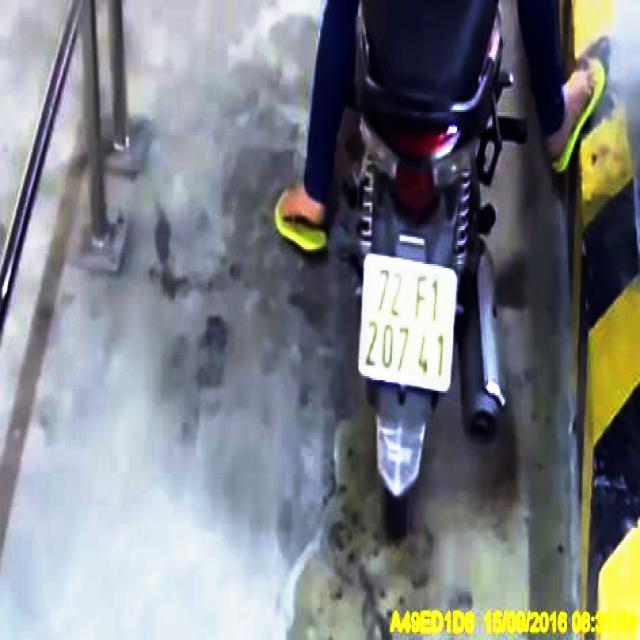license_plate: (358, 254, 458, 393)
